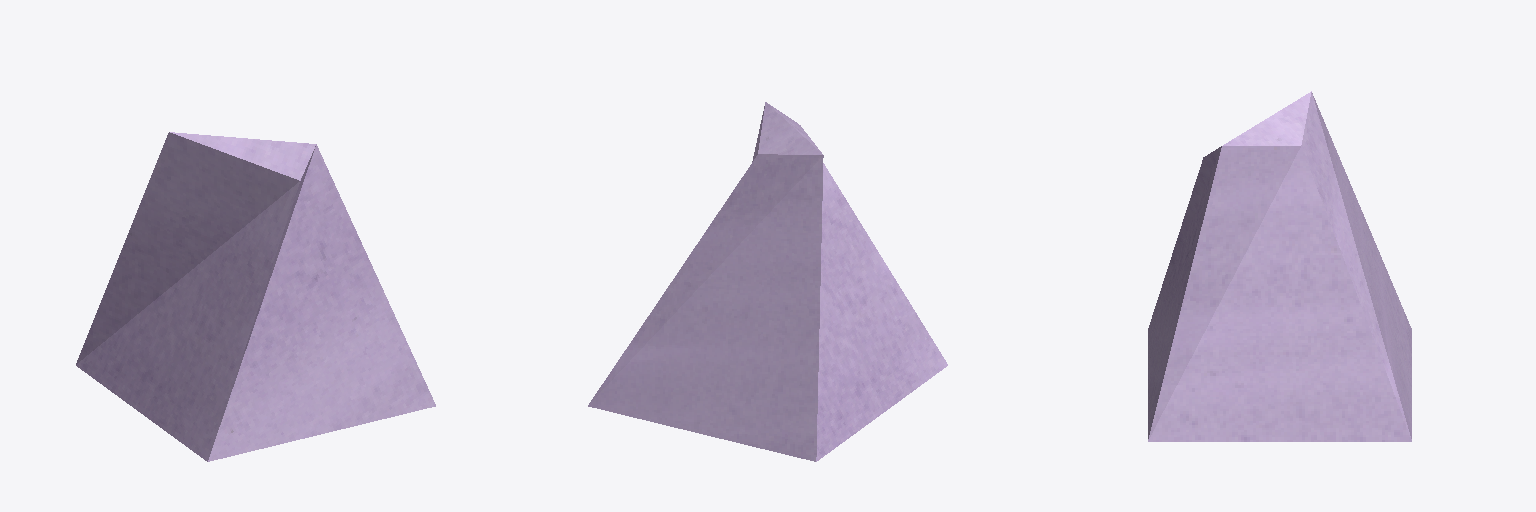
The picture shows the model from 3 angles: view 1: azimuth 30°, elevation 25°; view 2: azimuth 150°, elevation 25°; view 3: azimuth 270°, elevation 25°; orthographic projection.
Visible parts, largest first — view 1: Cube; view 2: Cube; view 3: Cube.
Part boxes in pixels (bbox=[...]): Cube: bbox=[76, 132, 435, 461]; Cube: bbox=[588, 102, 947, 461]; Cube: bbox=[1148, 91, 1411, 441].
Size of the model in its own units: 1 by 1.08 by 1.
Materials: 1 (1 with a texture image).